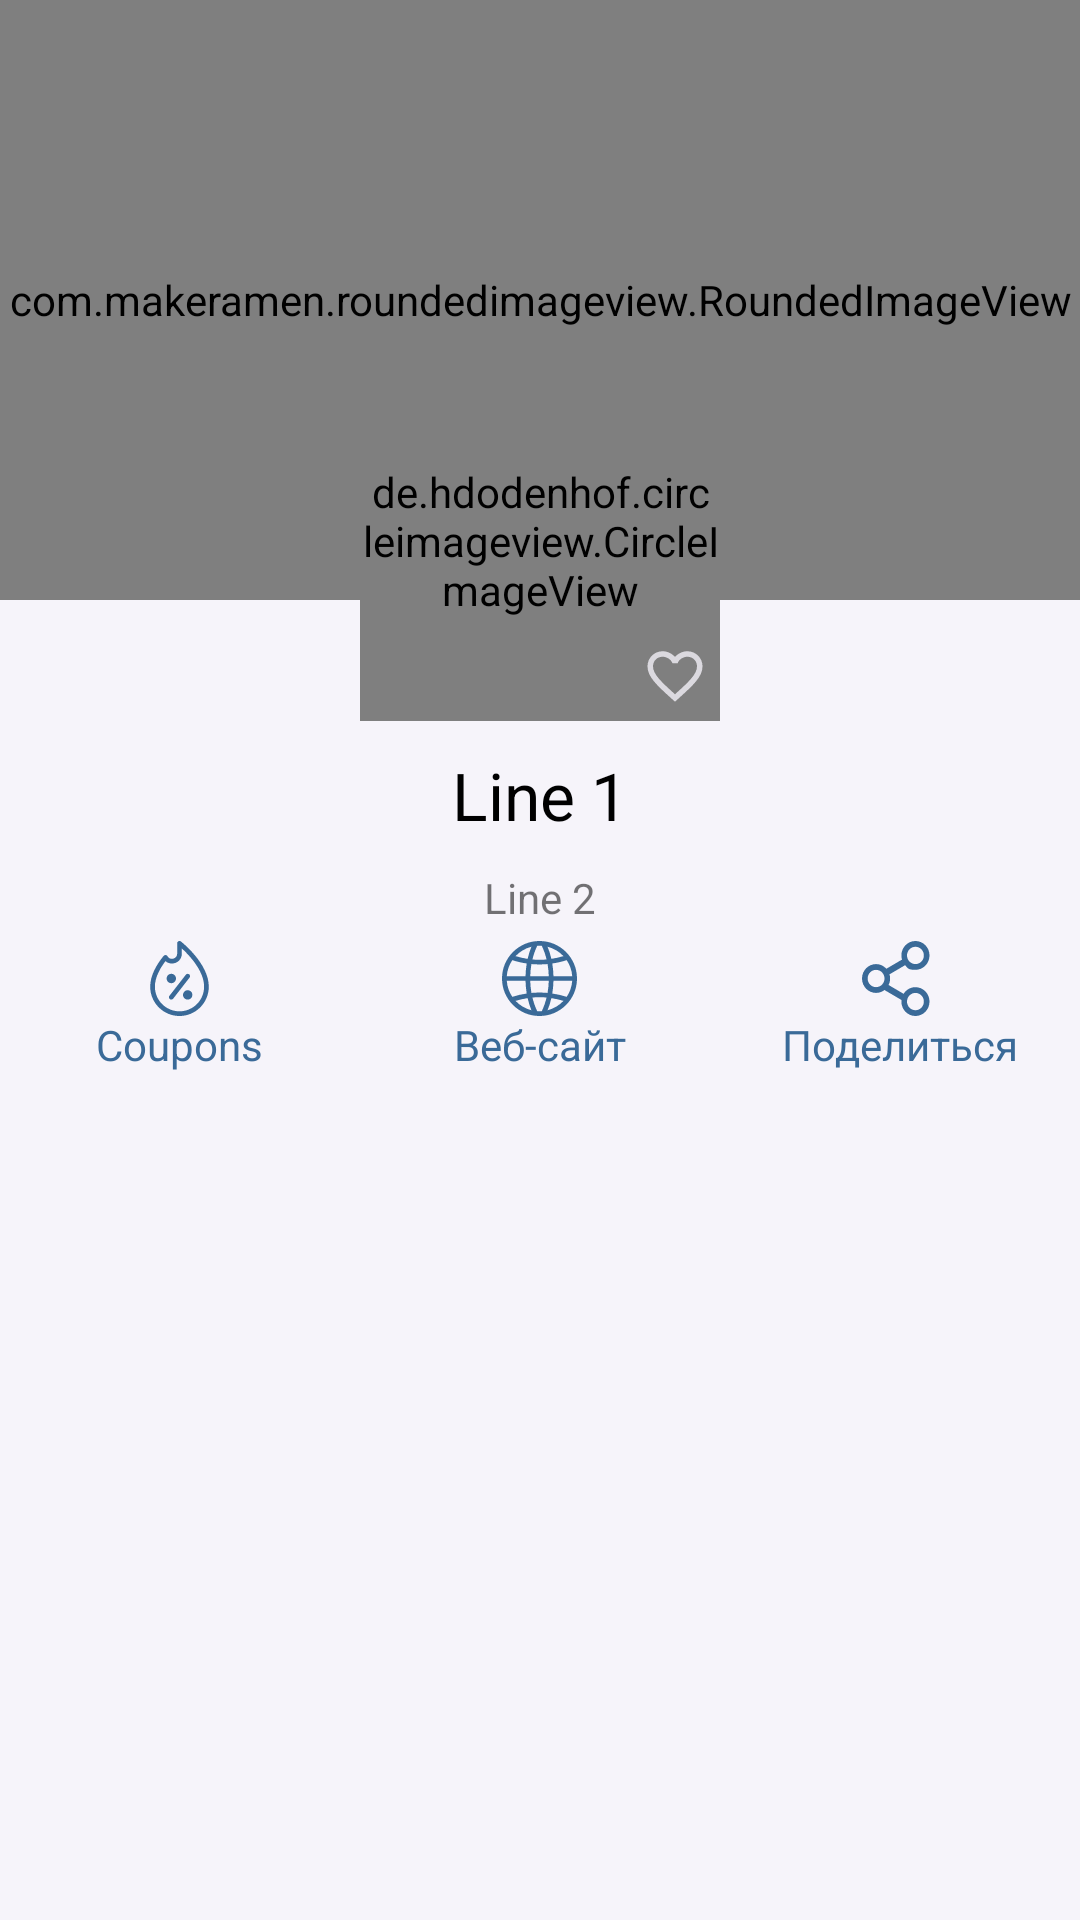

Screen size 1080 × 1920. Icon name, then its center in pixels as [x,y]:
favorite border: [675,676]
